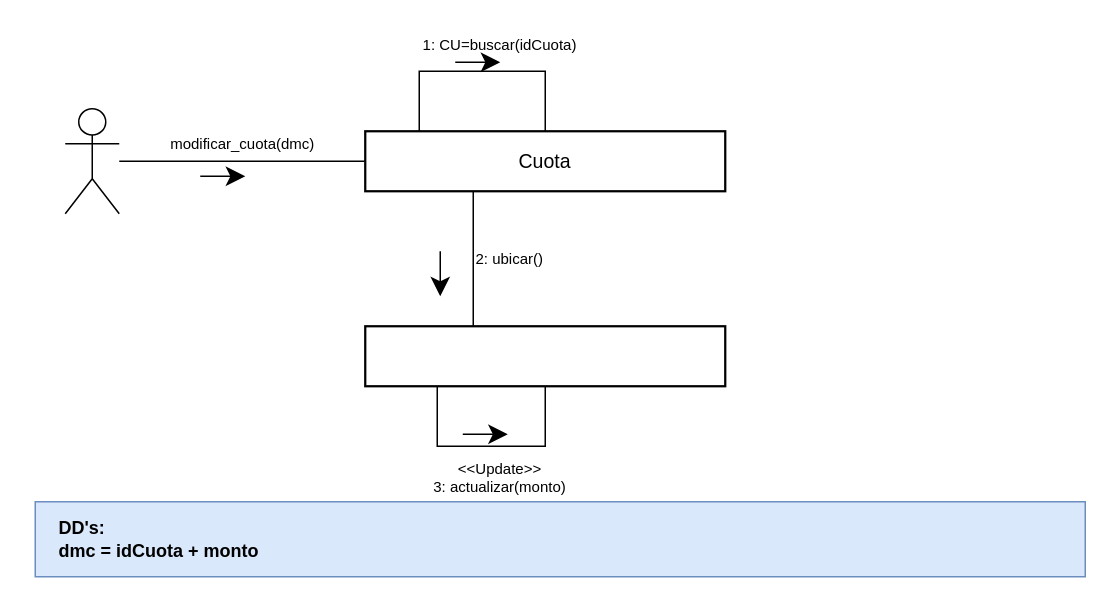
This 1112x603 diagram has some shape labels left out. The shapes that lost their labels are listed below. From the top down, each one's centre as x and y in pixels, then its label:
the point at 91,160: Director General
the point at 544,355: CU : Cuota
